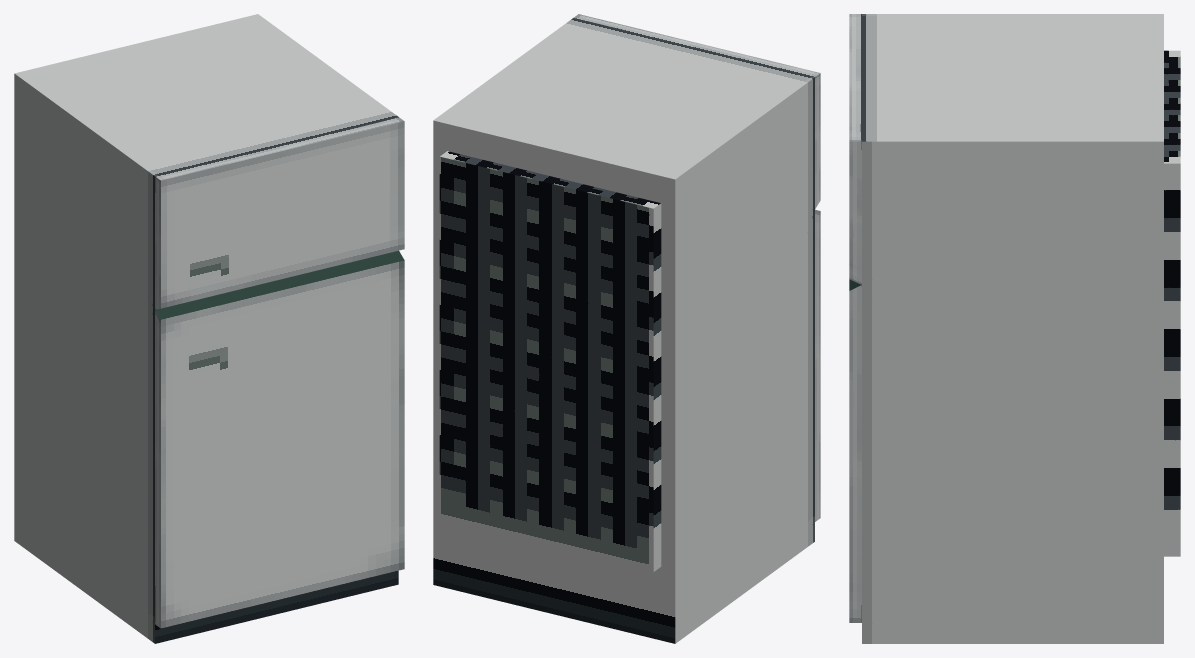
The model's file is fridge.fbx.
The picture shows the model from 3 angles, left to right: view 1: azimuth 30°, elevation 25°; view 2: azimuth 150°, elevation 25°; view 3: azimuth 270°, elevation 25°; orthographic projection. The views are drawn at different scales.
Visible parts, largest first — view 1: fridge; view 2: fridge; view 3: fridge.
Part boxes in pixels (bbox=[...]): fridge: bbox=[14, 14, 404, 643]; fridge: bbox=[433, 14, 820, 643]; fridge: bbox=[849, 14, 1180, 643].
Size of the model in its own units: 91.44 by 168 by 100.
